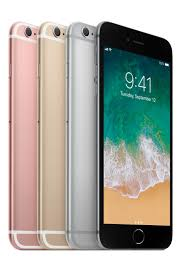iphone: (94, 17, 176, 247)
iphone6: (93, 17, 178, 249)
